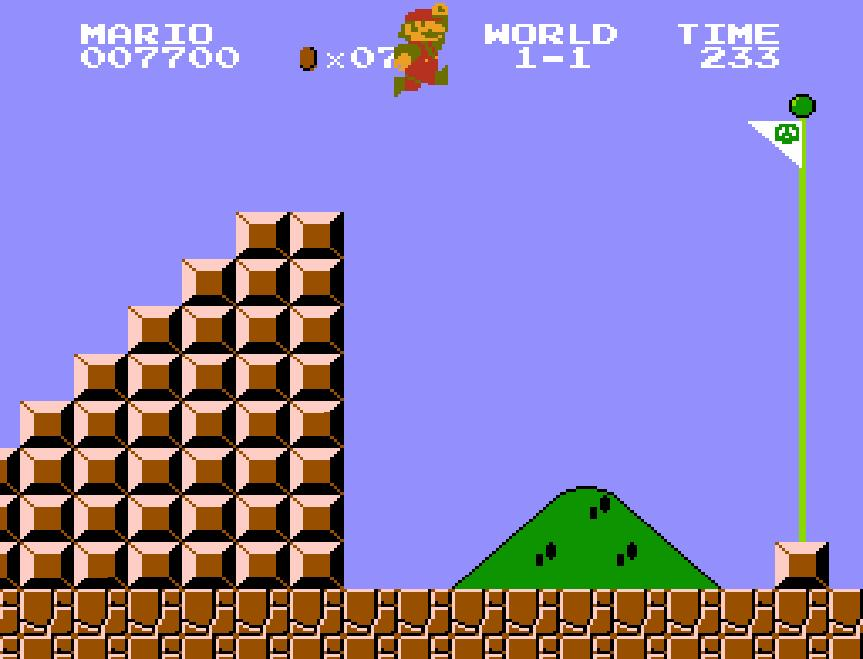big_mario: (392, 0, 450, 98)
